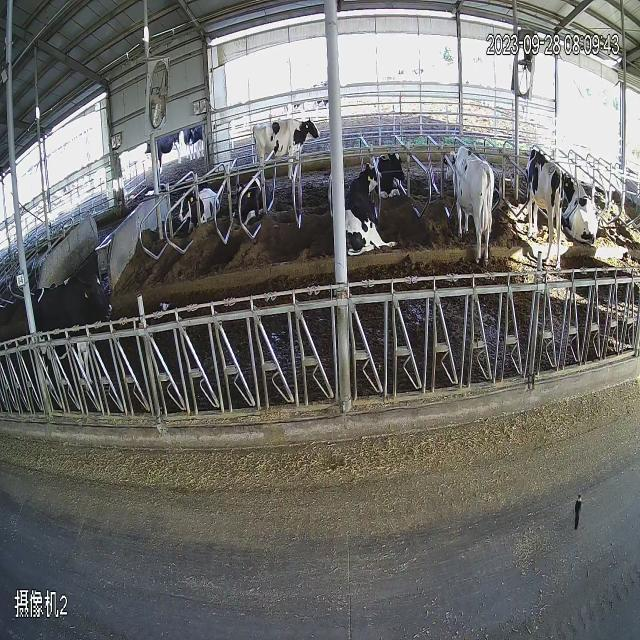lying down: (342, 156, 402, 260), (173, 160, 230, 244), (372, 143, 412, 213)
standing: (17, 263, 128, 392), (516, 118, 572, 274), (248, 106, 324, 206)
